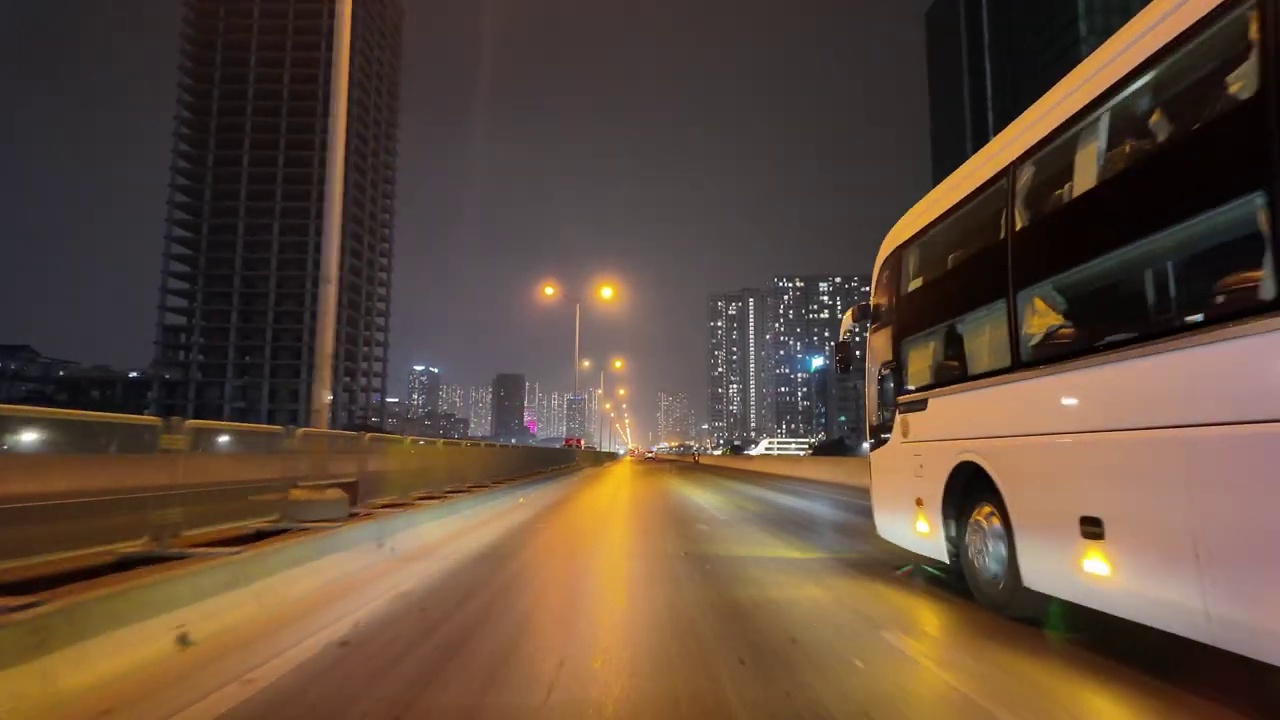acesa: (591, 277, 625, 309), (533, 278, 562, 305)
